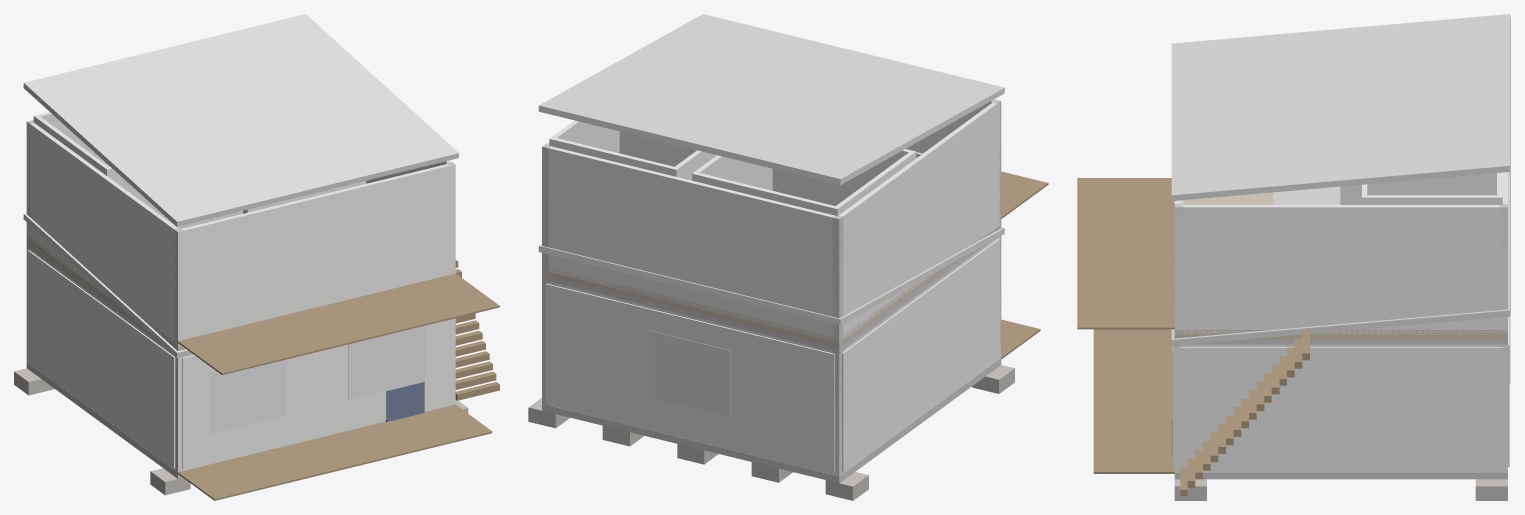
The model's file is Duplex-20-Premium+SlopingRoof-LOD3.glb.
3 renders of one model, left to right at view 1: azimuth 30°, elevation 25°; view 2: azimuth 150°, elevation 25°; view 3: azimuth 270°, elevation 25°, orthographic. The views are drawn at different scales.
Visible parts, largest first — view 1: RoofSlopingUpgrade.001, ExteriorShellUpper, ExteriorPanelsPremium, BalconyUpper, BalconyGround, WindowsLargeUpgrade, StaircaseExternal, ExteriorShell, BedroomUpper, FoundationBlocks, RoofSlopingUpgrade, EntryDoor (+4 smaller); view 2: ExteriorShellUpper, ExteriorPanelsPremium, RoofSlopingUpgrade.001, BedroomUpper, WindowsLargeUpgrade, StudyUpper, VerticalStructure, FoundationBlocks, RoofSlopingUpgrade, FloorUpper, BaseFrame, ExteriorShell (+3 smaller); view 3: RoofSlopingUpgrade.001, ExteriorShellUpper, ExteriorPanelsPremium, BalconyUpper, BalconyGround, RoofSlopingUpgrade, StaircaseExternal, StudyUpper, ExteriorShell, FloorUpper, BaseFrame, TopFrame (+1 smaller).
Boxes of the visible parts, box(x1,y1,x2,y2) form: RoofSlopingUpgrade.001: box(23, 14, 459, 226); ExteriorShellUpper: box(26, 122, 455, 347); ExteriorPanelsPremium: box(28, 250, 452, 469); BalconyUpper: box(178, 273, 499, 374); BalconyGround: box(178, 404, 492, 500); WindowsLargeUpgrade: box(210, 326, 425, 433); StaircaseExternal: box(455, 260, 499, 400); ExteriorShell: box(26, 246, 455, 472); BedroomUpper: box(33, 112, 242, 228); FoundationBlocks: box(14, 368, 468, 495); RoofSlopingUpgrade: box(23, 213, 192, 357); EntryDoor: box(385, 382, 424, 422); ExteriorShellUpper: box(542, 100, 1000, 342); ExteriorPanelsPremium: box(545, 238, 999, 473); RoofSlopingUpgrade.001: box(538, 14, 1004, 185); BedroomUpper: box(692, 149, 916, 215); WindowsLargeUpgrade: box(649, 330, 730, 417); StudyUpper: box(549, 120, 716, 180); VerticalStructure: box(542, 99, 1001, 475); FoundationBlocks: box(528, 365, 1014, 500); RoofSlopingUpgrade: box(538, 227, 1004, 325); FloorUpper: box(548, 226, 999, 347); BaseFrame: box(542, 358, 1001, 483); ExteriorShell: box(543, 236, 1001, 476); RoofSlopingUpgrade.001: box(1171, 14, 1510, 200); ExteriorShellUpper: box(1174, 172, 1507, 334); ExteriorPanelsPremium: box(1173, 316, 1509, 470); BalconyUpper: box(1077, 178, 1174, 329); BalconyGround: box(1093, 329, 1174, 473); RoofSlopingUpgrade: box(1171, 172, 1510, 345); StaircaseExternal: box(1180, 330, 1309, 496); StudyUpper: box(1362, 172, 1502, 204); ExteriorShell: box(1174, 344, 1507, 471); FloorUpper: box(1174, 192, 1507, 339); BaseFrame: box(1174, 472, 1507, 479); TopFrame: box(1187, 339, 1507, 344).
Bounding box in the file's own units: 7.94 × 6.72 × 8.01.
